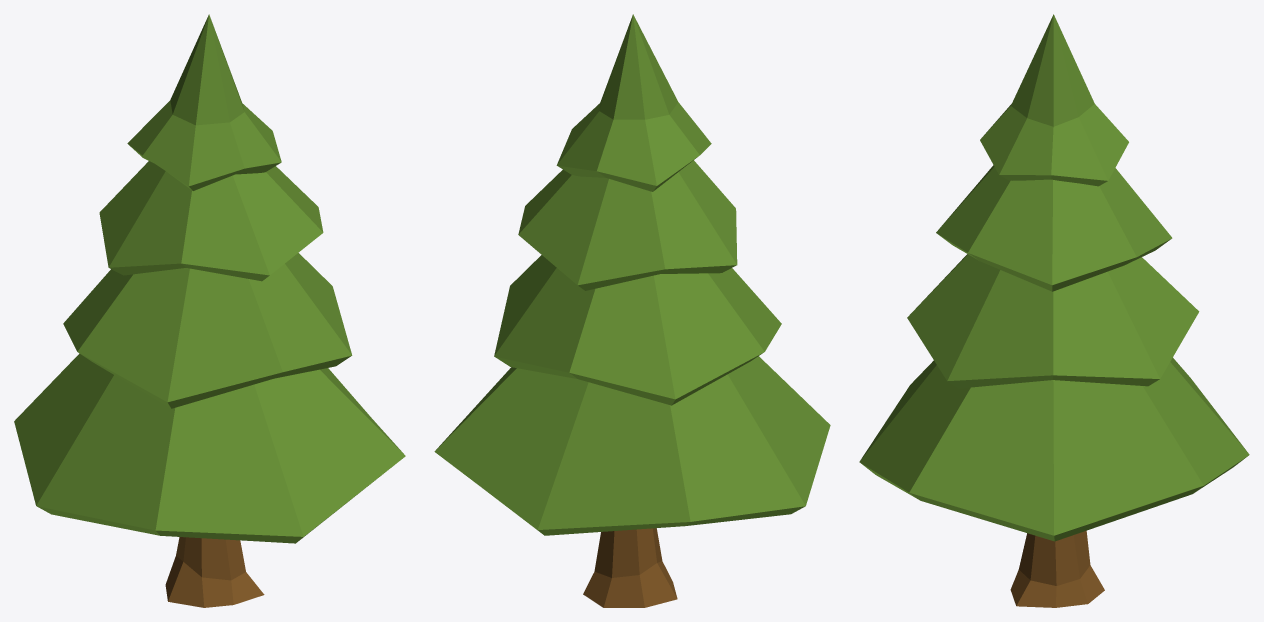
The model's file is tree1.obj.
The picture shows the model from 3 angles, left to right: view 1: azimuth 30°, elevation 25°; view 2: azimuth 150°, elevation 25°; view 3: azimuth 270°, elevation 25°; orthographic projection.
Visible parts, largest first — view 1: Tree_Spruce_small_02_Cylinder.003; view 2: Tree_Spruce_small_02_Cylinder.003; view 3: Tree_Spruce_small_02_Cylinder.003.
Part boxes in pixels (bbox=[...]): Tree_Spruce_small_02_Cylinder.003: bbox=[14, 14, 405, 607]; Tree_Spruce_small_02_Cylinder.003: bbox=[434, 14, 830, 607]; Tree_Spruce_small_02_Cylinder.003: bbox=[859, 14, 1249, 607].
Size of the model in its own units: 11.12 by 18.25 by 11.24.
1 material, 1 textured.
